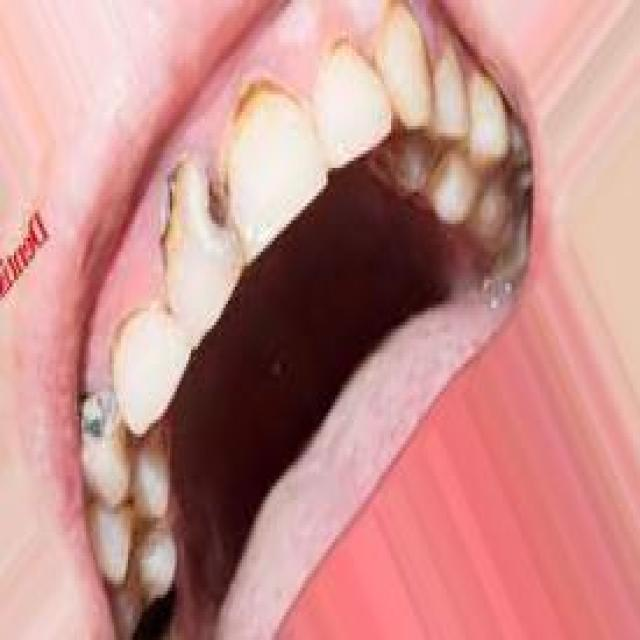caries: (156, 149, 248, 319), (69, 367, 134, 462), (116, 554, 187, 640)
